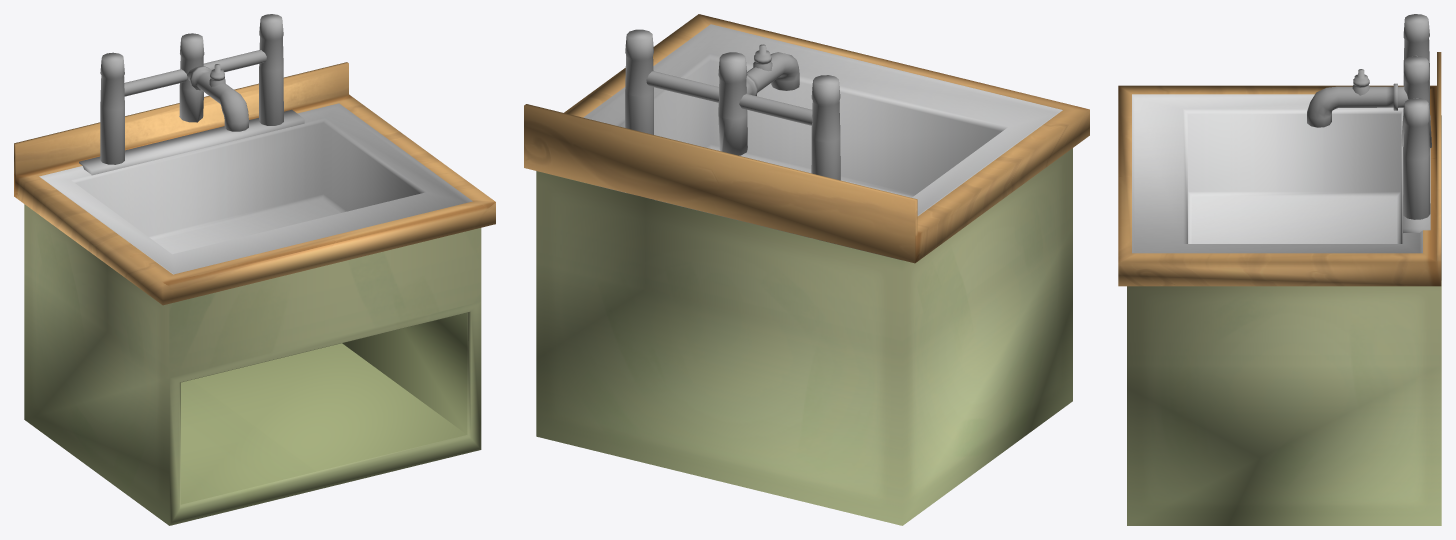
Rendered from Sink.fbx.
The picture shows the model from 3 angles, left to right: view 1: azimuth 30°, elevation 25°; view 2: azimuth 150°, elevation 25°; view 3: azimuth 270°, elevation 25°; orthographic projection. The views are drawn at different scales.
Visible parts, largest first — view 1: CounterSink; view 2: CounterSink; view 3: CounterSink.
Part boxes in pixels (bbox=[...]): CounterSink: bbox=[14, 14, 495, 525]; CounterSink: bbox=[524, 14, 1089, 525]; CounterSink: bbox=[1118, 14, 1441, 525].
Bounding box in the file's own units: 113 × 114 × 87.58.
